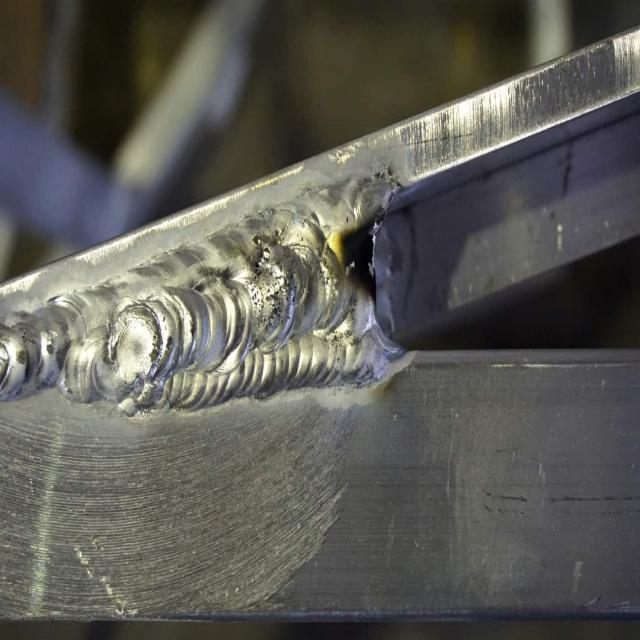Good Weld: (54, 226, 370, 378)
